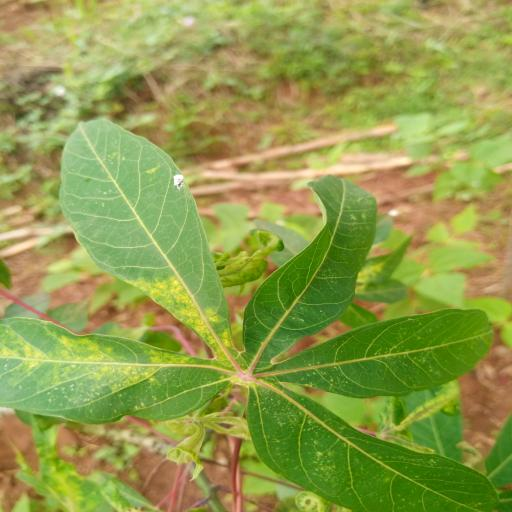Cassava_Mosaic: (0, 114, 512, 512)
